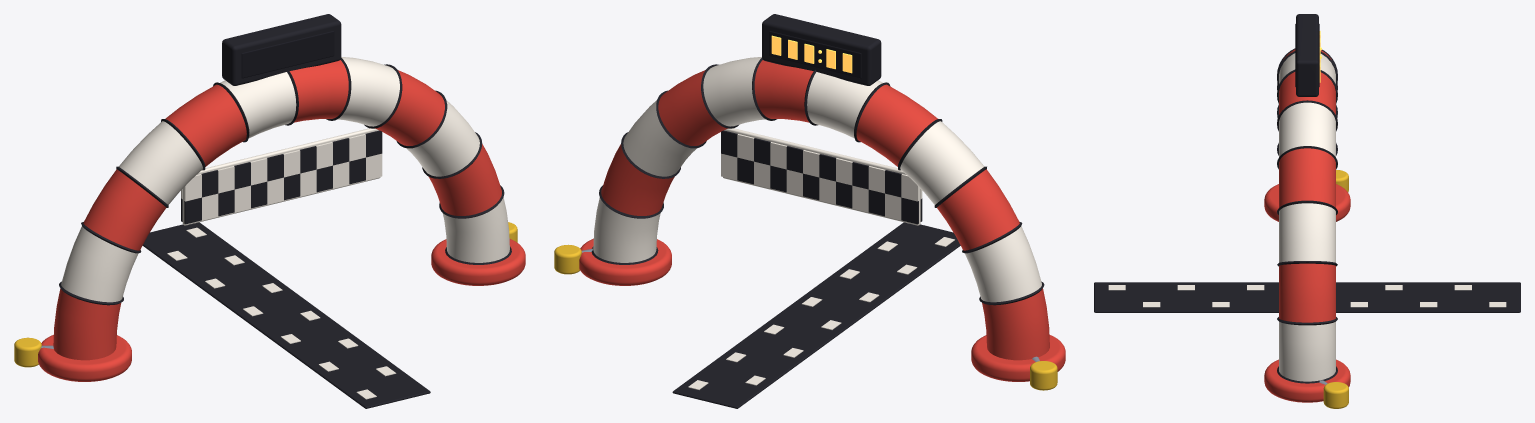
File: finish_arch.glb
The picture shows the model from 3 angles, left to right: view 1: azimuth 30°, elevation 25°; view 2: azimuth 150°, elevation 25°; view 3: azimuth 270°, elevation 25°; orthographic projection. The views are drawn at different scales.
Parts seen in each view (by area): view 1: finish_arch; view 2: finish_arch; view 3: finish_arch.
Part boxes in pixels (x1,y1,x2,y2): finish_arch: [14, 14, 525, 408]; finish_arch: [554, 14, 1065, 408]; finish_arch: [1094, 14, 1520, 408].
Bounding box in the file's own units: 9.14 × 5 × 7.4.
Materials: 1 (1 with a texture image).
